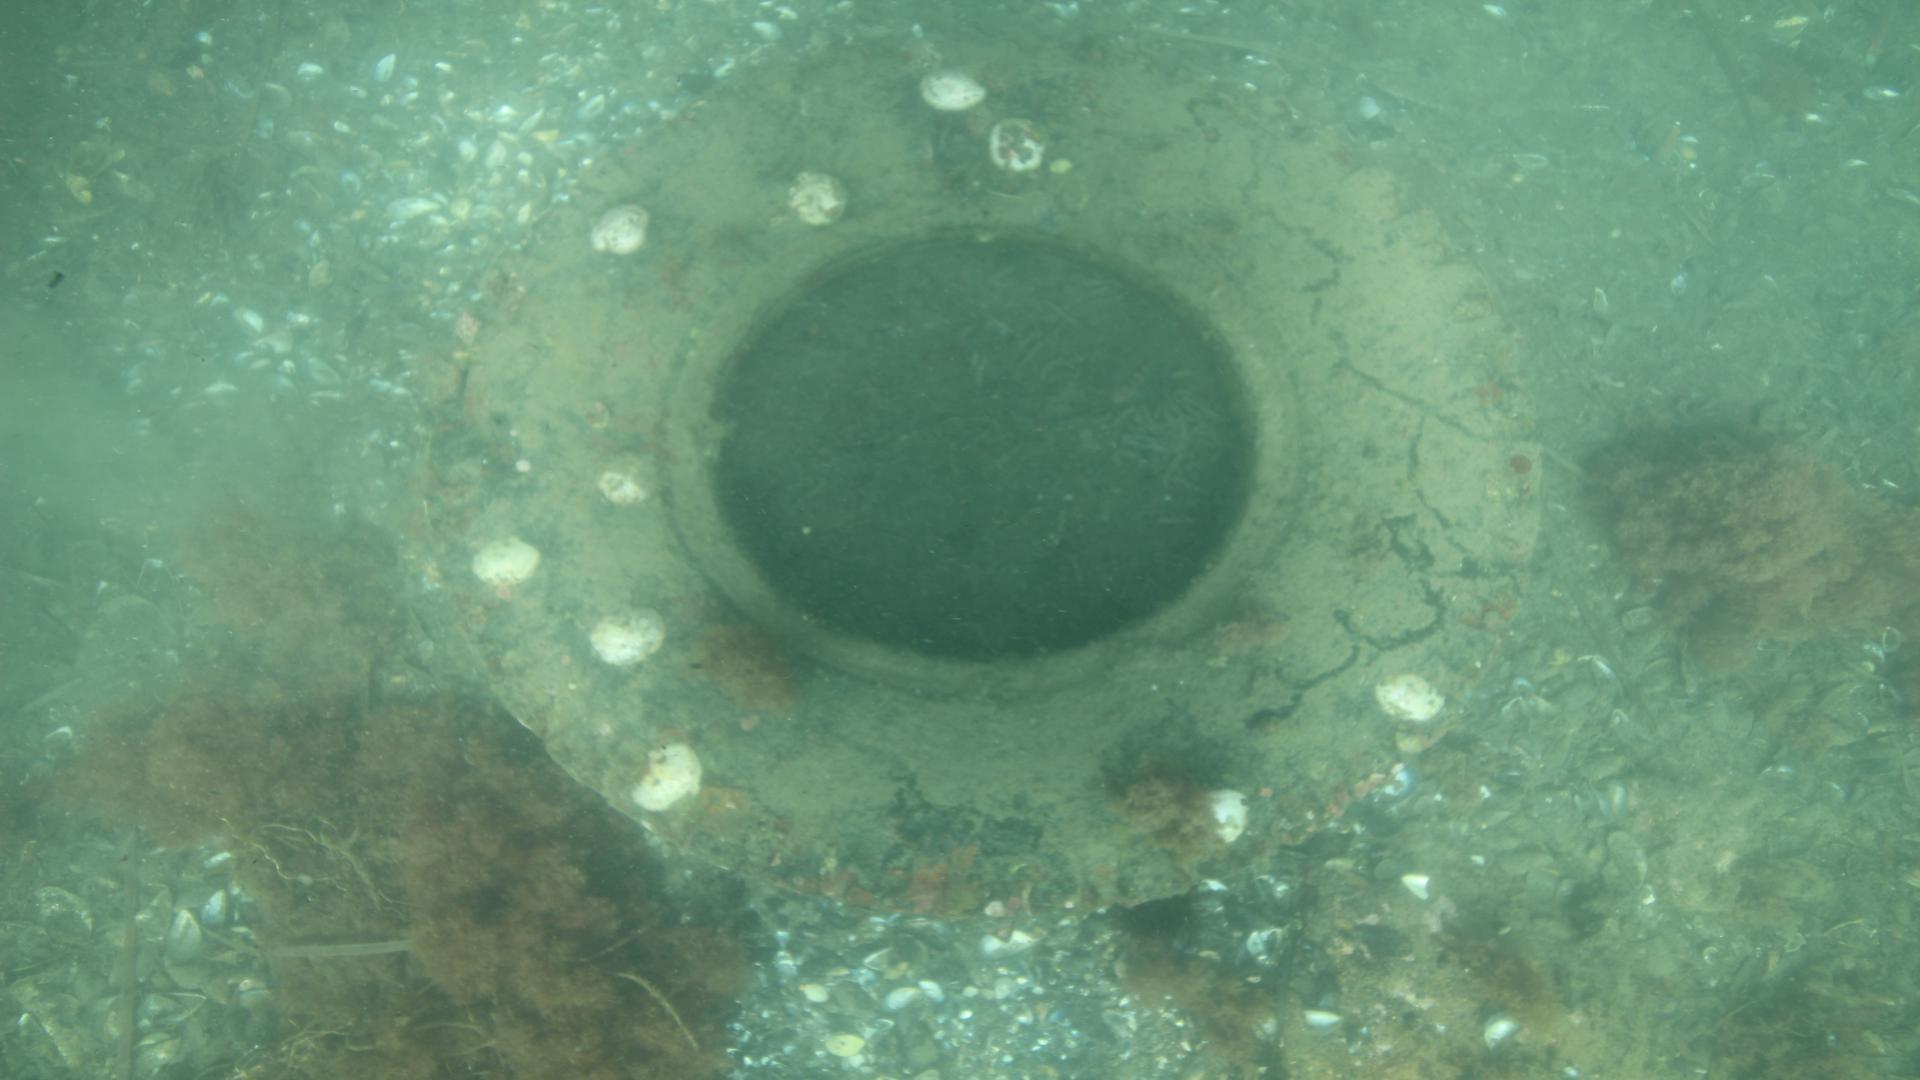tire: (429, 53, 1540, 918)
